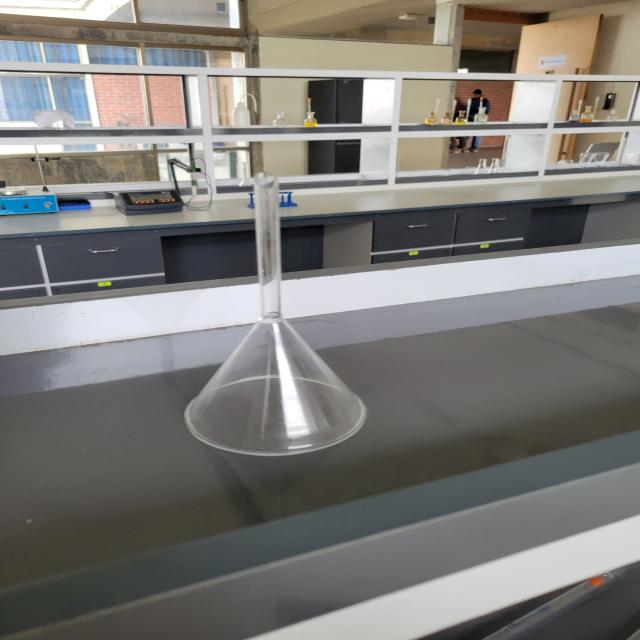Funnel: (124, 138, 408, 496)
